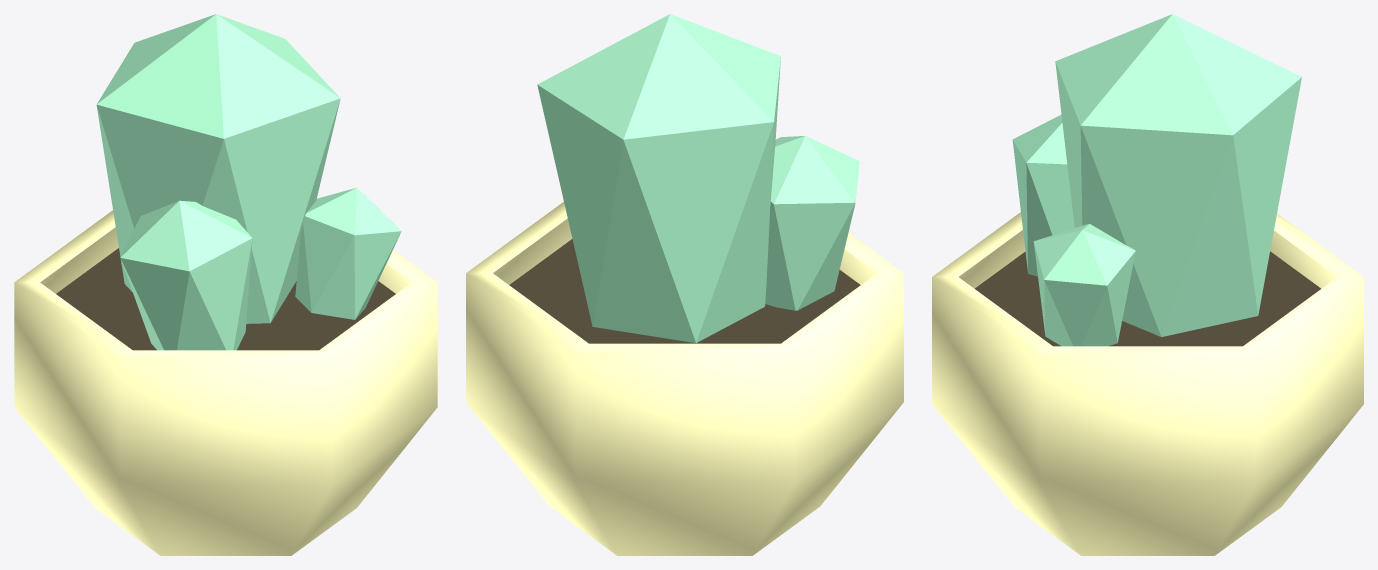
The model's file is PlantSmall.glb.
The picture shows the model from 3 angles, left to right: view 1: azimuth 30°, elevation 25°; view 2: azimuth 150°, elevation 25°; view 3: azimuth 270°, elevation 25°; orthographic projection. The views are drawn at different scales.
Visible parts, largest first — view 1: PlantSmall; view 2: PlantSmall; view 3: PlantSmall.
Part boxes in pixels (bbox=[...]): PlantSmall: bbox=[14, 14, 437, 555]; PlantSmall: bbox=[466, 14, 903, 555]; PlantSmall: bbox=[932, 14, 1363, 555].
Size of what is drawn, in the model's own units: 0.277 by 0.4038 by 0.3198.
2 materials, 2 textured.
